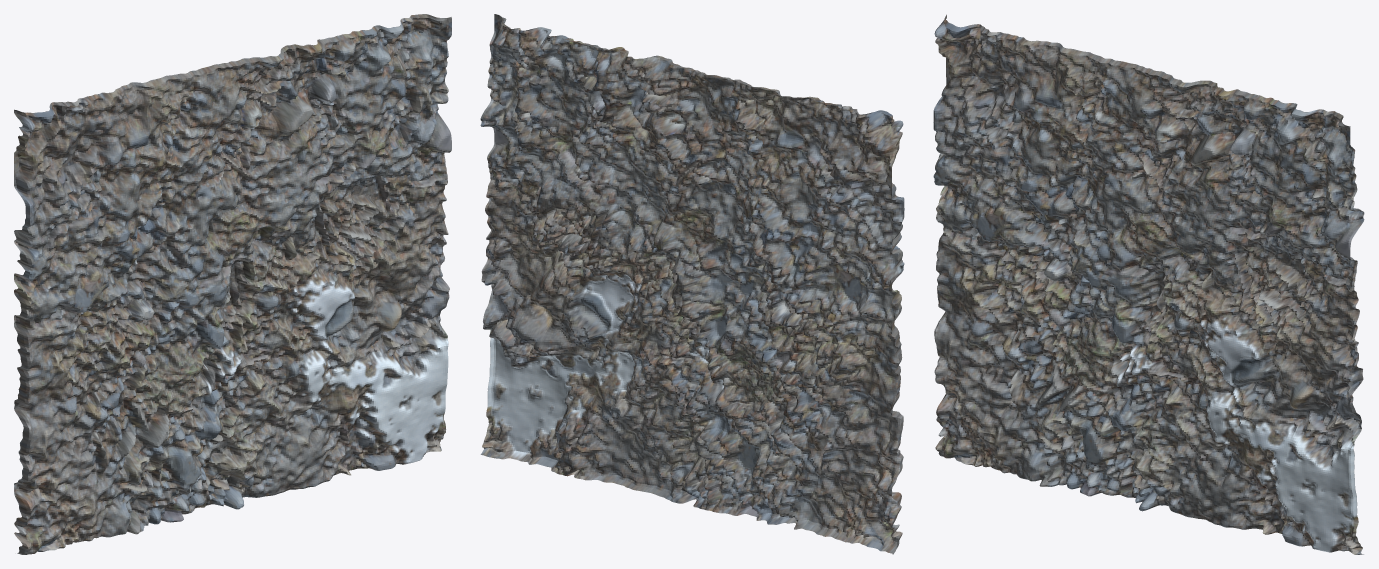
The picture shows the model from 3 angles, left to right: view 1: azimuth 30°, elevation 25°; view 2: azimuth 150°, elevation 25°; view 3: azimuth 330°, elevation 25°; orthographic projection. The views are drawn at different scales.
Visible parts, largest first — view 1: sample_00_2_after_ft; view 2: sample_00_2_after_ft; view 3: sample_00_2_after_ft.
Boxes of the visible parts, bbox=[...] form: sample_00_2_after_ft: bbox=[14, 14, 451, 554]; sample_00_2_after_ft: bbox=[480, 14, 904, 554]; sample_00_2_after_ft: bbox=[933, 14, 1364, 554].
Size of the model in its own units: 1 by 1 by 0.06.
1 material, 1 textured.
